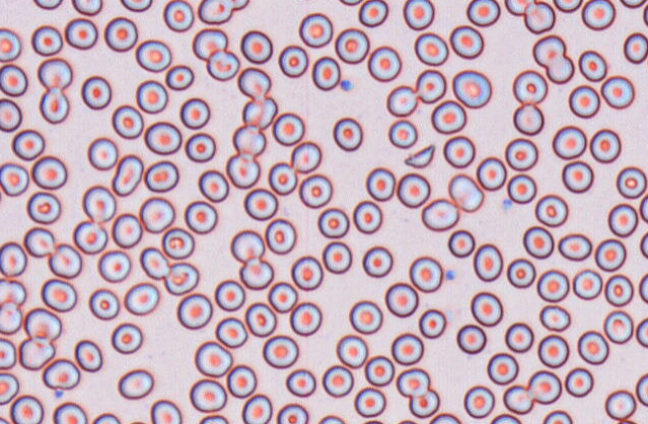PLT: (339, 78, 357, 92), (443, 268, 459, 281), (52, 388, 65, 400)
RBC: (452, 69, 491, 108), (447, 173, 484, 212), (194, 340, 232, 377), (139, 196, 175, 233), (176, 292, 212, 329), (82, 184, 116, 223), (334, 27, 369, 64), (24, 307, 62, 341), (189, 378, 227, 412), (430, 99, 466, 134), (526, 369, 562, 404), (512, 69, 548, 104), (298, 12, 333, 48), (409, 255, 443, 292), (40, 278, 77, 312), (367, 45, 401, 82), (30, 155, 67, 189), (421, 198, 459, 231), (144, 121, 182, 154), (449, 24, 484, 59), (163, 261, 199, 295), (384, 281, 418, 317), (396, 172, 430, 208), (262, 334, 298, 368), (123, 281, 159, 315), (103, 16, 137, 52), (18, 337, 55, 370), (42, 358, 80, 390), (472, 243, 503, 282), (226, 153, 260, 188), (230, 229, 265, 263), (48, 243, 82, 278), (348, 299, 382, 334), (298, 173, 332, 208), (600, 75, 635, 109), (192, 27, 228, 60), (135, 39, 171, 72), (264, 217, 296, 254), (73, 220, 107, 254), (504, 137, 538, 171), (552, 125, 586, 159), (414, 32, 448, 66), (37, 57, 72, 90), (243, 187, 278, 220), (470, 291, 503, 326), (289, 301, 322, 336), (290, 255, 323, 290), (26, 191, 61, 224), (244, 301, 276, 337), (143, 160, 179, 192), (117, 368, 154, 399), (532, 34, 566, 67), (534, 194, 568, 227), (97, 249, 131, 282), (272, 112, 305, 146), (184, 200, 217, 234), (135, 79, 168, 113), (577, 330, 609, 365), (111, 104, 143, 139), (240, 29, 272, 64), (589, 128, 621, 163), (111, 212, 142, 248), (39, 87, 69, 124), (561, 160, 594, 193), (536, 269, 569, 302), (232, 124, 266, 156), (523, 0, 555, 34), (239, 257, 273, 289), (336, 334, 368, 368), (522, 225, 554, 259), (537, 334, 569, 368), (615, 165, 647, 199), (64, 17, 98, 49), (568, 84, 600, 118), (11, 128, 45, 160), (607, 202, 638, 237), (206, 49, 239, 81), (486, 352, 518, 385), (512, 102, 544, 135), (463, 385, 495, 418), (197, 169, 229, 202), (215, 316, 248, 348), (321, 364, 353, 397), (391, 332, 423, 365), (161, 227, 194, 259), (594, 238, 626, 271), (443, 135, 475, 168), (30, 24, 63, 56), (226, 364, 257, 398), (415, 69, 446, 103), (87, 136, 118, 170), (80, 75, 111, 109), (395, 367, 430, 397), (476, 156, 506, 191), (365, 166, 395, 201), (332, 116, 362, 151), (603, 309, 633, 344), (361, 245, 393, 277), (162, 0, 194, 32), (110, 322, 142, 354), (88, 288, 120, 320), (139, 246, 170, 279), (290, 140, 321, 173), (353, 386, 386, 417), (322, 240, 352, 274), (352, 200, 382, 234), (581, 0, 615, 30), (0, 161, 29, 196), (311, 55, 340, 90), (557, 232, 592, 261), (23, 226, 55, 257), (214, 279, 245, 311), (604, 389, 636, 420), (317, 207, 349, 238), (179, 97, 210, 129), (278, 44, 308, 77), (604, 273, 634, 306), (268, 161, 297, 195), (9, 394, 43, 423), (0, 241, 27, 277), (386, 85, 417, 116), (502, 384, 534, 414), (504, 321, 534, 353), (267, 281, 297, 313), (402, 0, 434, 30), (572, 268, 602, 300), (184, 132, 216, 162), (408, 388, 439, 418), (456, 323, 486, 354), (241, 393, 272, 423), (364, 355, 394, 386), (578, 49, 607, 81), (74, 339, 102, 372), (506, 173, 536, 203), (564, 367, 594, 397), (285, 368, 316, 397), (506, 257, 535, 288), (0, 63, 27, 96), (466, 0, 500, 26), (197, 0, 233, 24), (388, 119, 417, 148), (418, 308, 446, 338), (539, 304, 570, 331), (546, 55, 574, 84), (358, 0, 388, 27), (447, 229, 475, 257), (0, 97, 22, 132), (52, 401, 87, 423), (623, 32, 647, 64), (165, 64, 194, 90), (150, 399, 181, 423), (0, 27, 21, 62), (0, 278, 26, 306), (0, 301, 22, 334), (276, 402, 308, 423), (0, 372, 19, 404), (0, 337, 16, 369), (71, 0, 102, 15), (504, 0, 532, 15), (542, 409, 572, 423), (635, 373, 647, 406), (120, 0, 152, 12), (635, 317, 647, 347), (429, 412, 461, 423), (553, 0, 582, 12), (91, 412, 120, 423), (490, 413, 521, 423), (638, 272, 647, 303), (198, 414, 228, 423), (32, 0, 62, 9), (317, 414, 345, 423), (639, 193, 647, 222), (639, 230, 647, 258), (619, 0, 646, 8), (230, 0, 249, 10), (338, 0, 362, 6), (395, 418, 418, 423), (643, 3, 648, 26), (615, 419, 637, 423), (361, 419, 383, 423), (127, 420, 147, 424), (0, 416, 10, 423), (293, 0, 319, 2)
Schistocyte: (112, 155, 144, 197), (240, 99, 277, 129), (237, 67, 272, 98), (402, 144, 437, 169)
